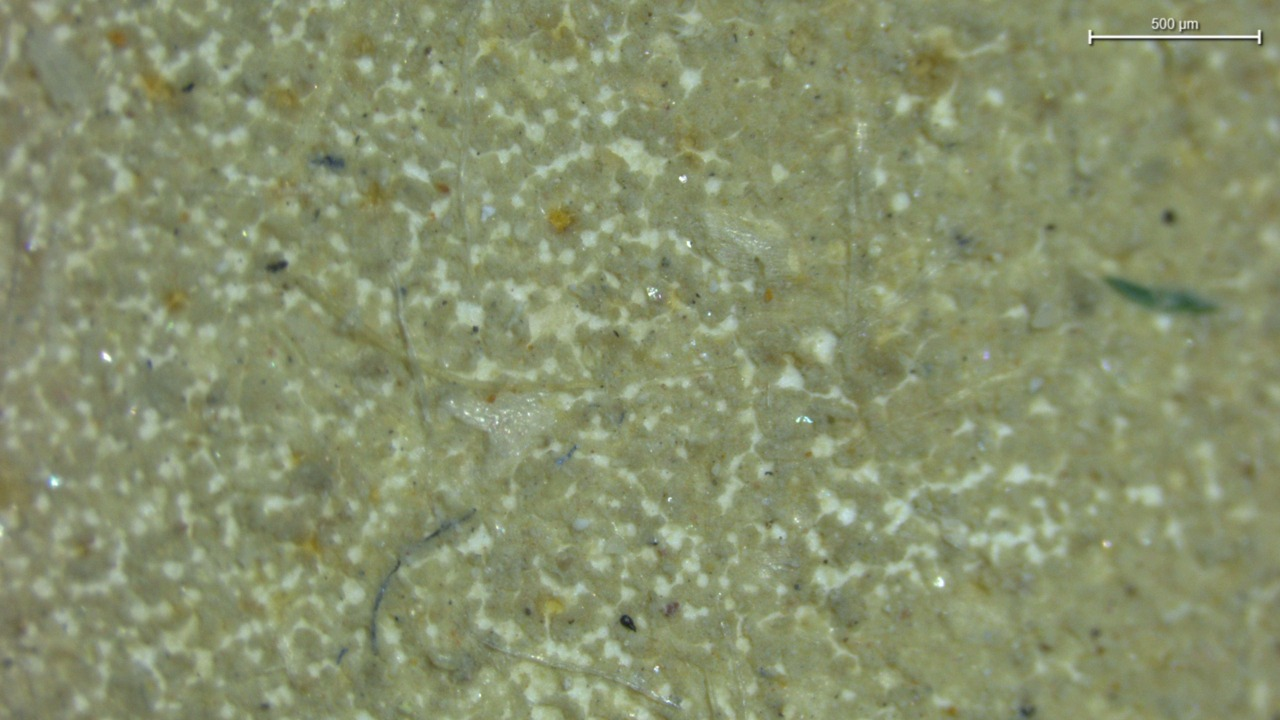microplastic_fragment: (442, 392, 556, 444)
